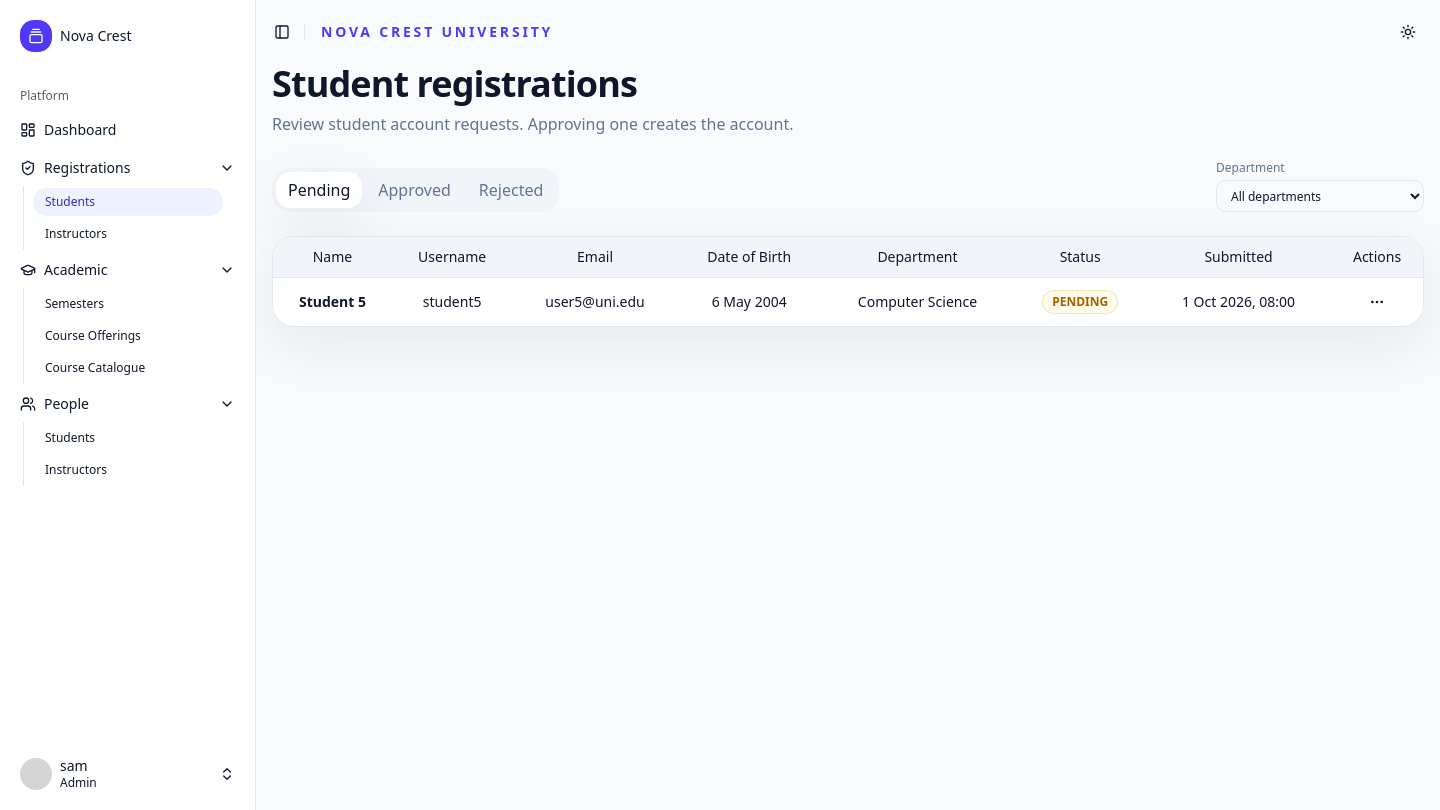
Test: RegistrationsView › does nothing when the admin backs out of rejecting
Click the button without text in the row of "Student 5". click: (1377, 302)
box: [1361,286,1393,318]
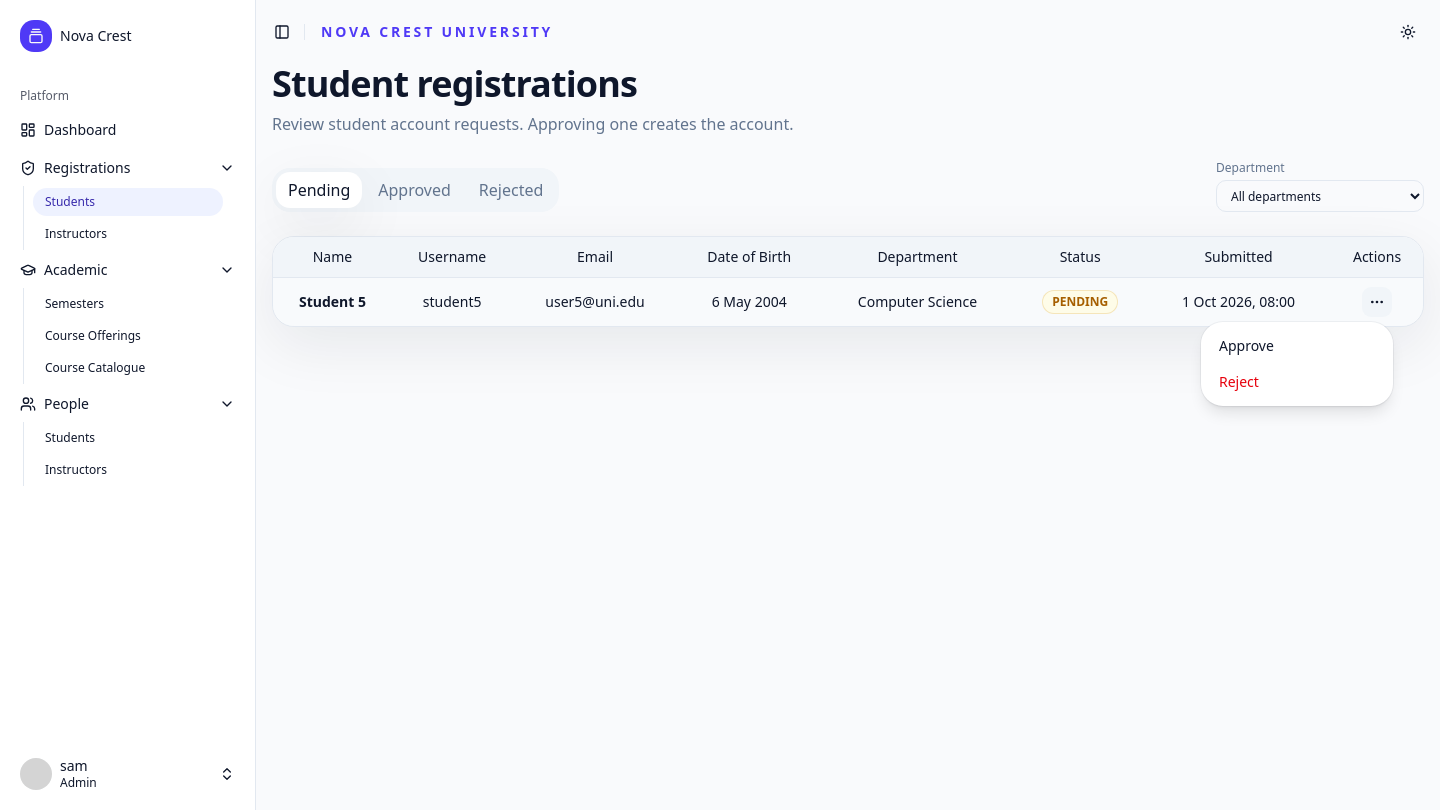
Click the menu item "Reject". click: (1239, 382)
box: [1219,372,1259,391]
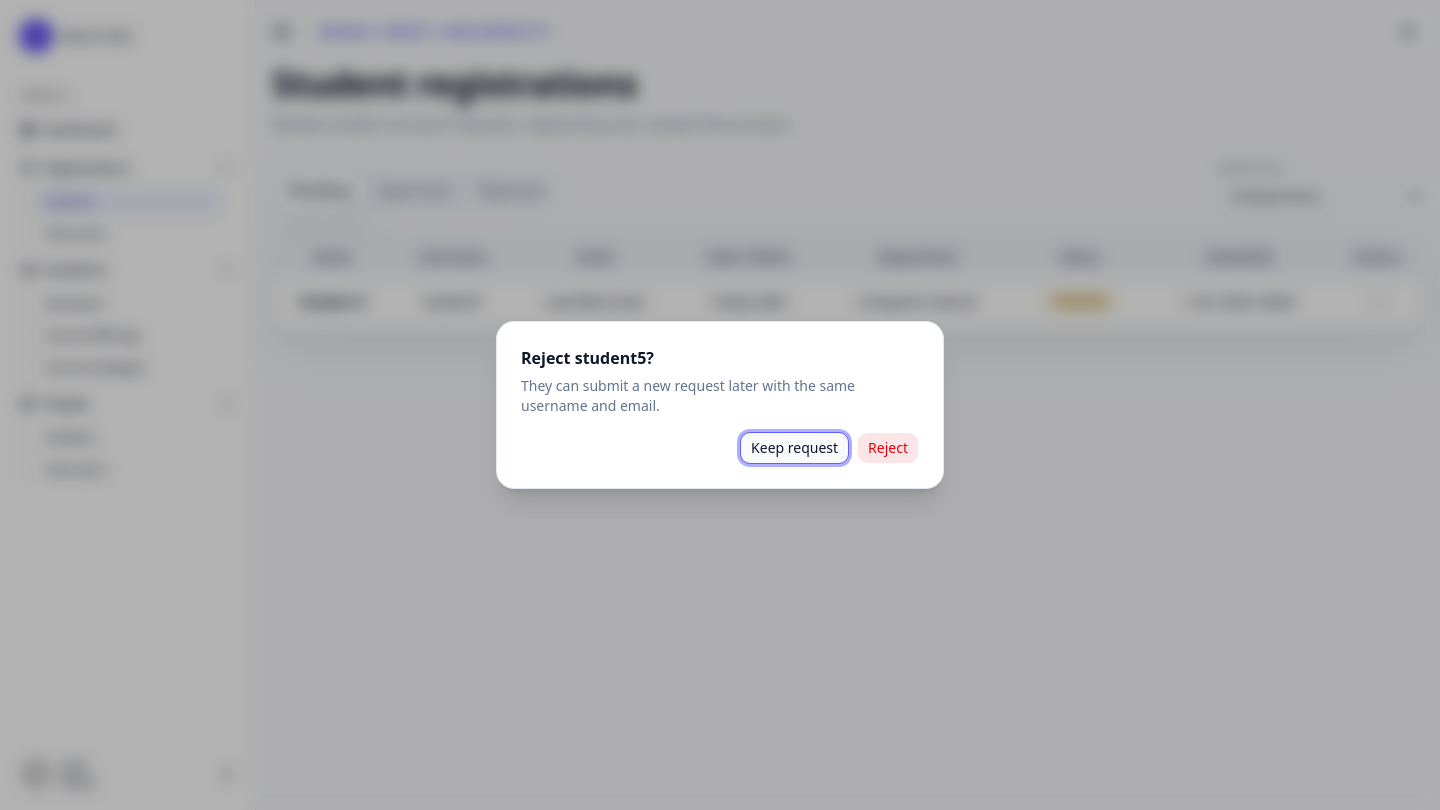
Click the button "Keep request". click: (795, 448)
box: [740,432,849,464]
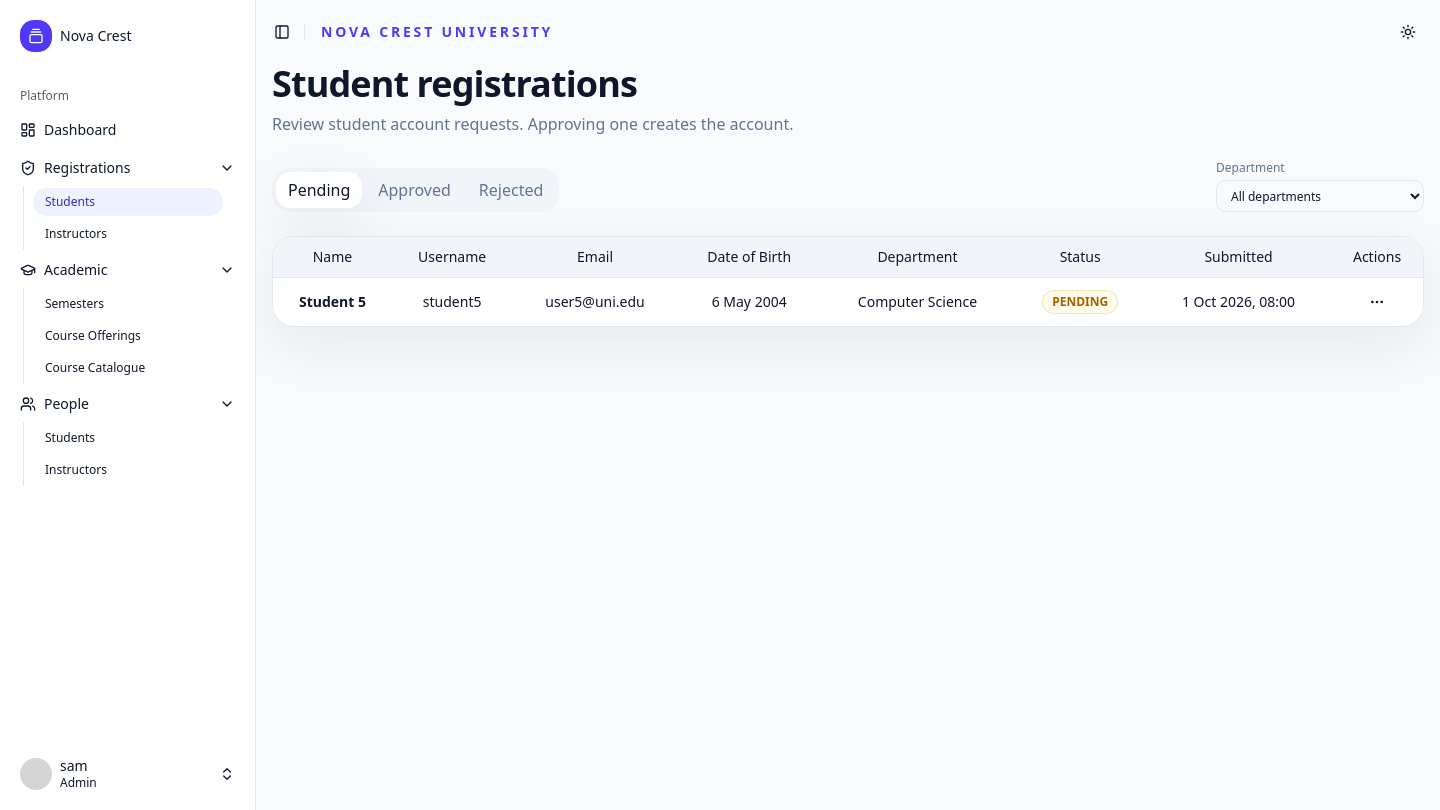
expect the dialog is gone: met
